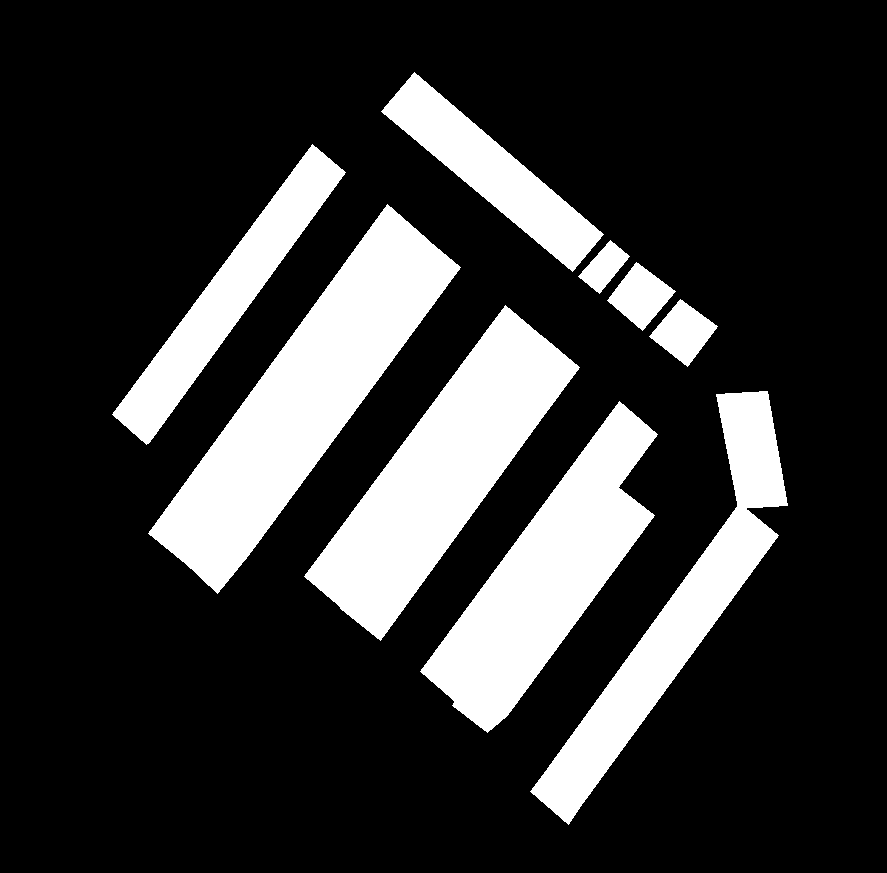parkingspot: (148, 204, 426, 563), (182, 236, 460, 593), (530, 503, 778, 824), (304, 305, 544, 610), (340, 335, 579, 640), (420, 401, 657, 704), (112, 144, 345, 444), (452, 484, 654, 732), (381, 72, 603, 271), (716, 391, 787, 508), (607, 262, 675, 330), (649, 299, 717, 366), (578, 240, 629, 293)
